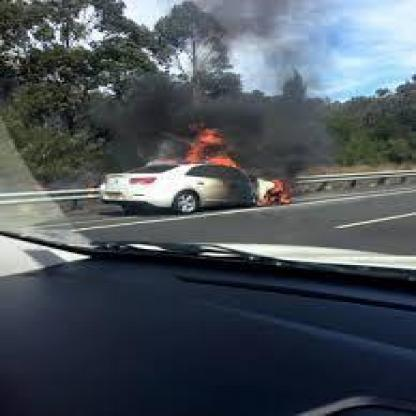fire: (173, 124, 303, 208)
smoke: (103, 84, 330, 163)
